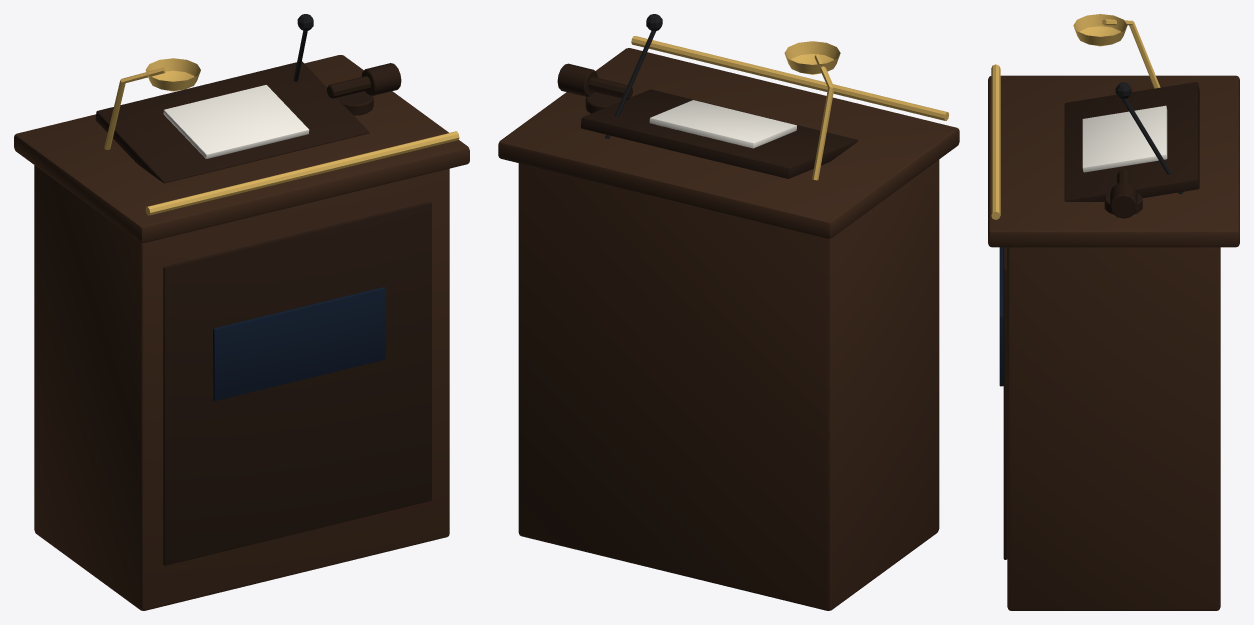
Rendered from marlin_rostrum.glb.
The picture shows the model from 3 angles, left to right: view 1: azimuth 30°, elevation 25°; view 2: azimuth 150°, elevation 25°; view 3: azimuth 270°, elevation 25°; orthographic projection. The views are drawn at different scales.
Visible parts, largest first — view 1: marlin_rostrum; view 2: marlin_rostrum; view 3: marlin_rostrum.
Part boxes in pixels (x1,y1,x2,y2): marlin_rostrum: (14,14,469,610); marlin_rostrum: (498,14,959,610); marlin_rostrum: (988,14,1239,610).
Size of the model in its own units: 0.96 by 1.39 by 0.65.
